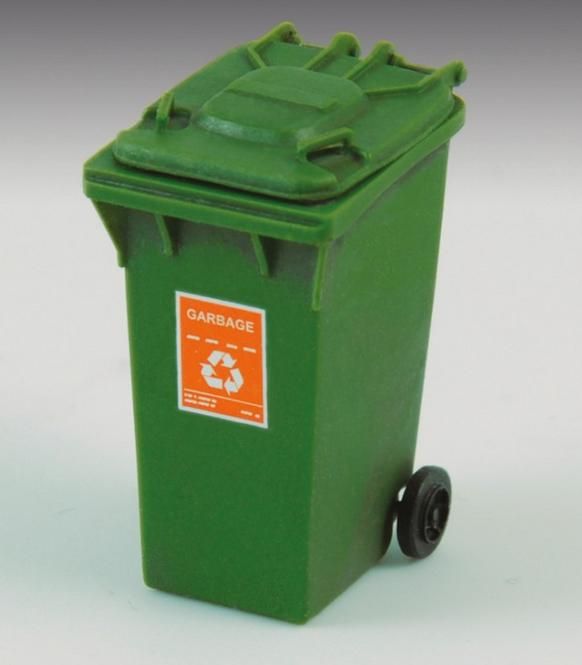trash bin: (73, 16, 505, 636)
